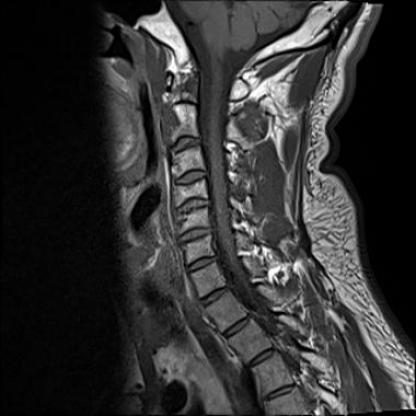Disc Bulgerotation: (168, 132, 201, 154), (172, 167, 209, 186), (173, 197, 210, 215), (175, 228, 214, 245), (185, 256, 220, 272)
Disc Protrusionrotation: (185, 256, 220, 272)
